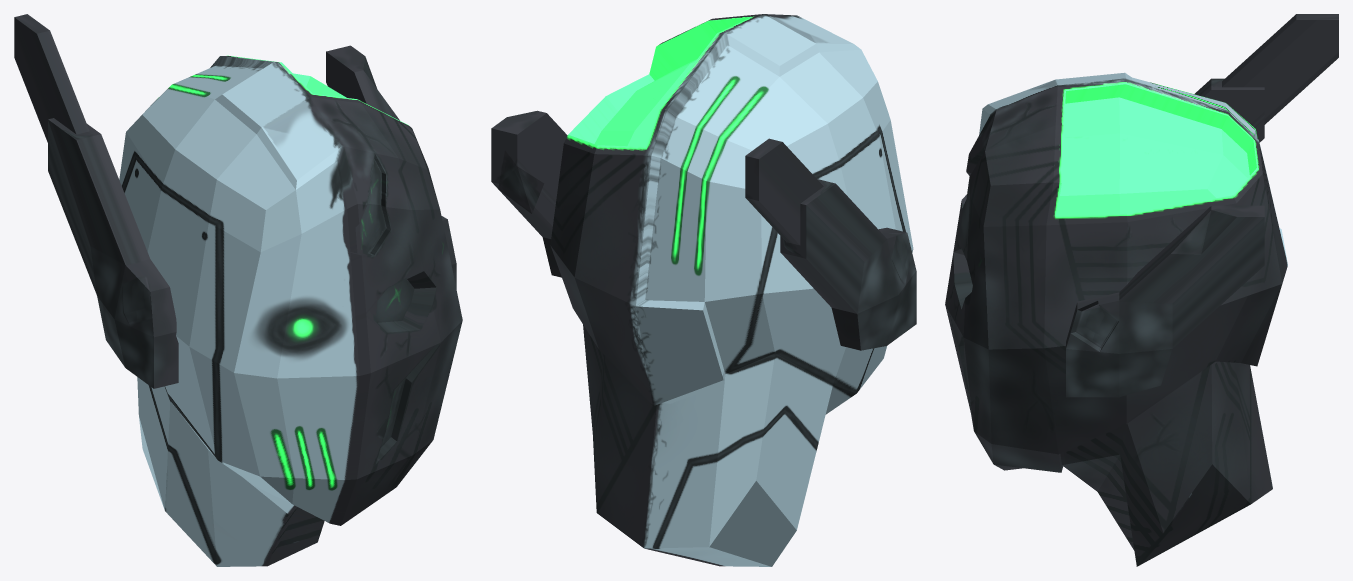
Rendered from cabecaRobo01.glb.
3 views of the same model, side by side, from view 1: azimuth 30°, elevation 25°; view 2: azimuth 150°, elevation 25°; view 3: azimuth 270°, elevation 25° (orthographic). The views are drawn at different scales.
Parts seen in each view (by area): view 1: Cube; view 2: Cube; view 3: Cube.
Boxes of the visible parts, x1,y1,x2,y2 form: Cube: (14, 14, 462, 566); Cube: (491, 14, 916, 566); Cube: (945, 14, 1338, 566).
Bounding box in the file's own units: 1.58 × 2.37 × 1.77.
Materials: 2 (2 with a texture image).
